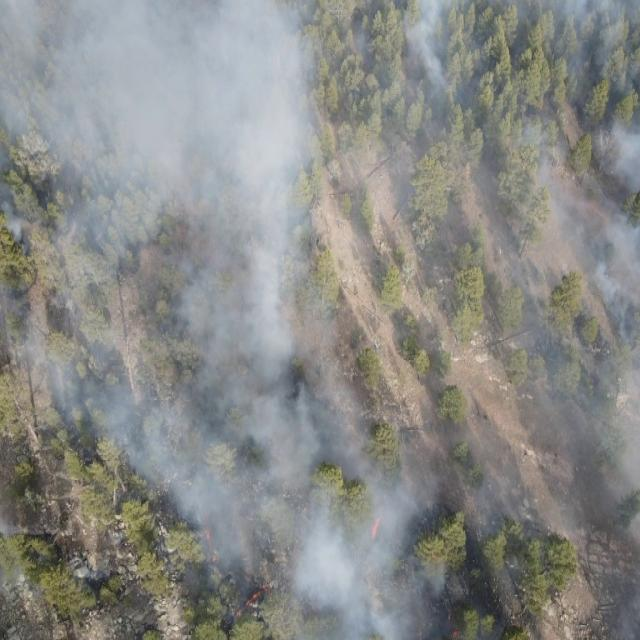fire: (236, 585, 272, 617), (202, 523, 220, 565), (368, 513, 384, 547), (446, 622, 460, 640)
smoke: (314, 0, 640, 302), (1, 0, 316, 302), (136, 461, 480, 640), (0, 305, 359, 465), (522, 304, 640, 640), (0, 562, 36, 600), (0, 512, 38, 538)
